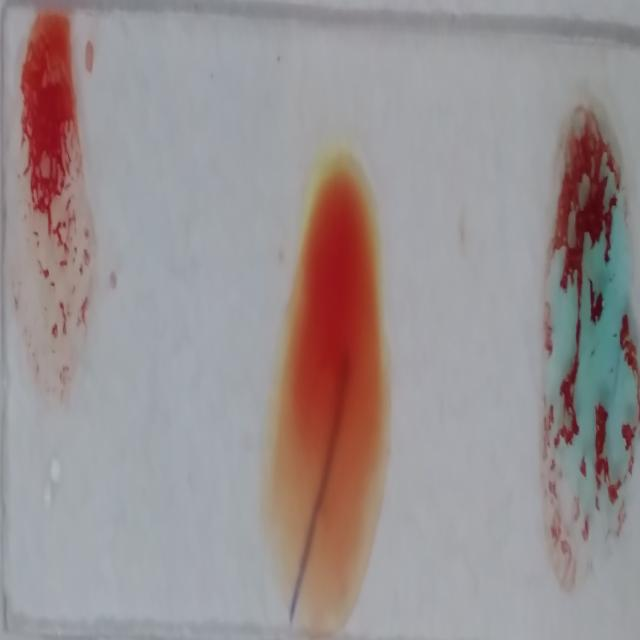A: (541, 95, 637, 581)
D: (13, 9, 98, 408)
